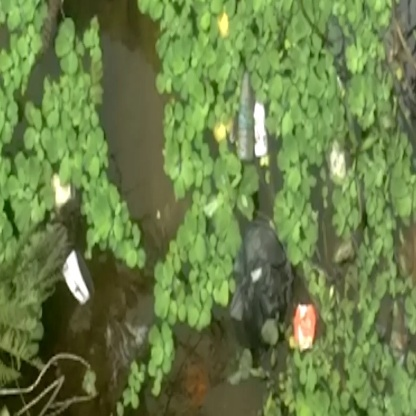plastic-bag: (228, 219, 295, 350)
